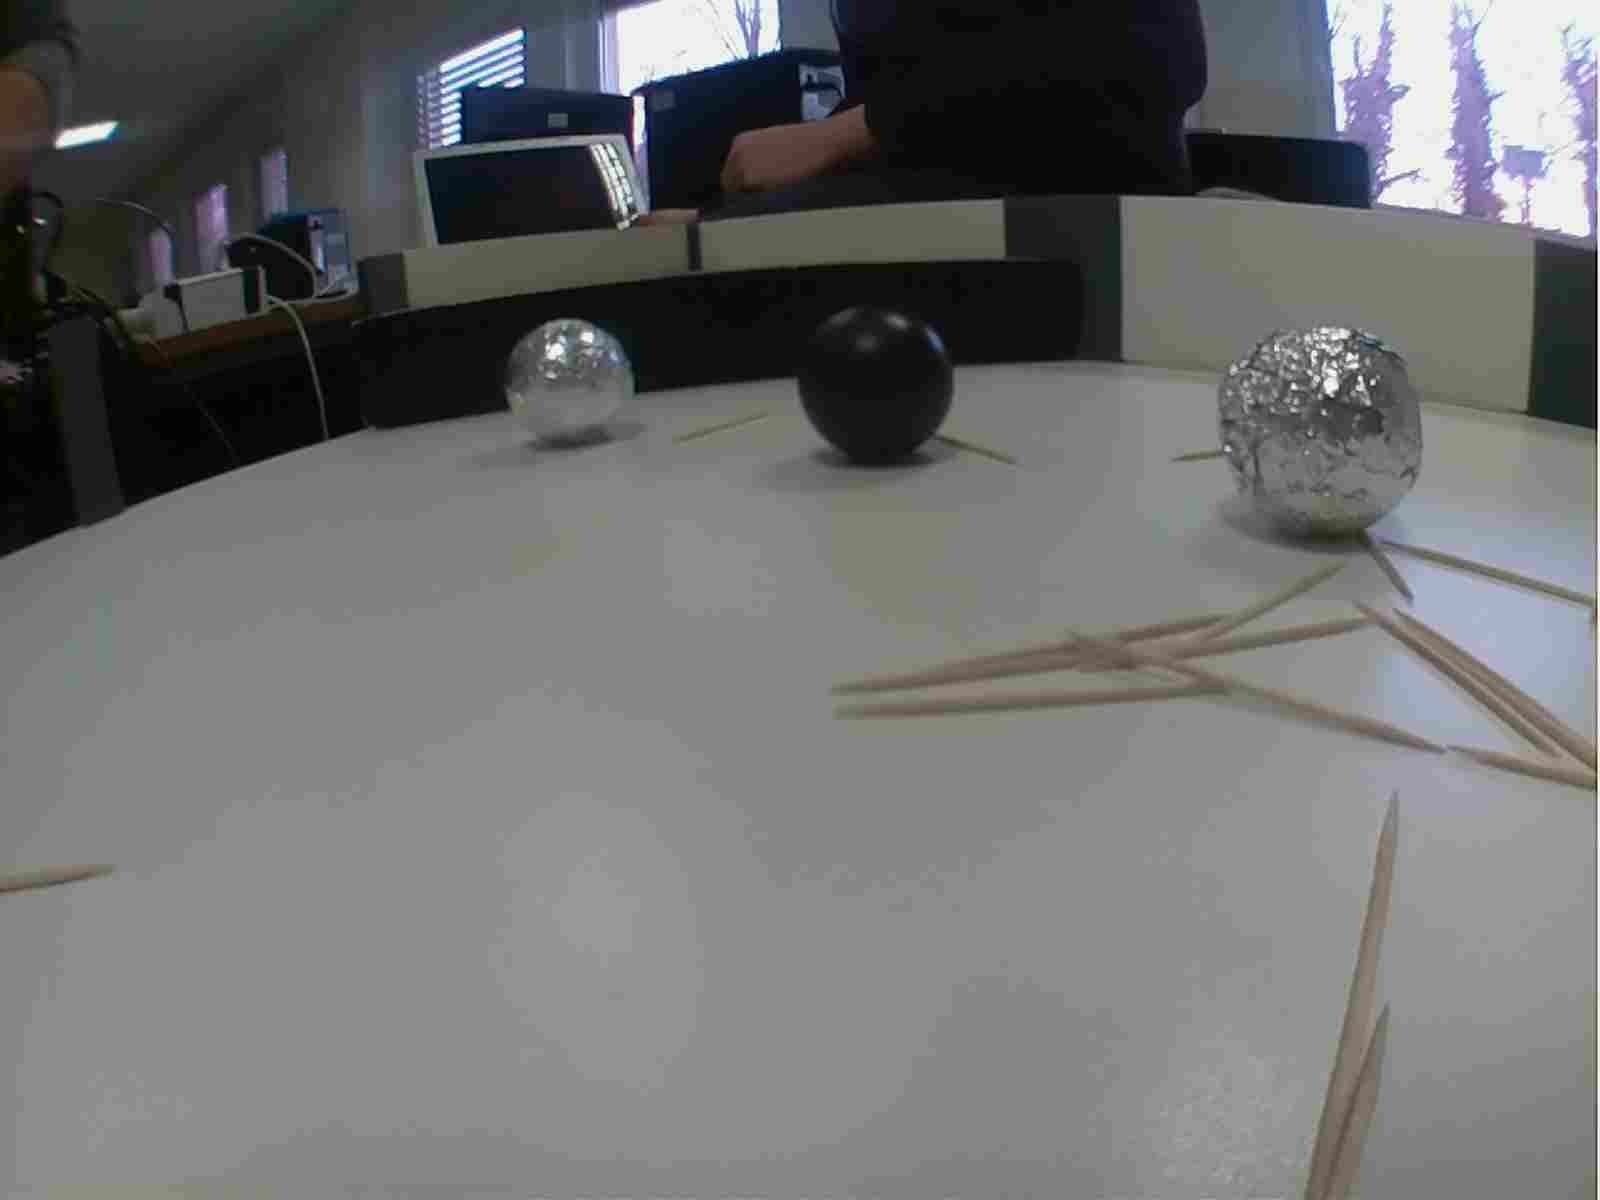bianca: (1216, 320, 1417, 538), (500, 315, 627, 442)
nera: (795, 300, 961, 463)
